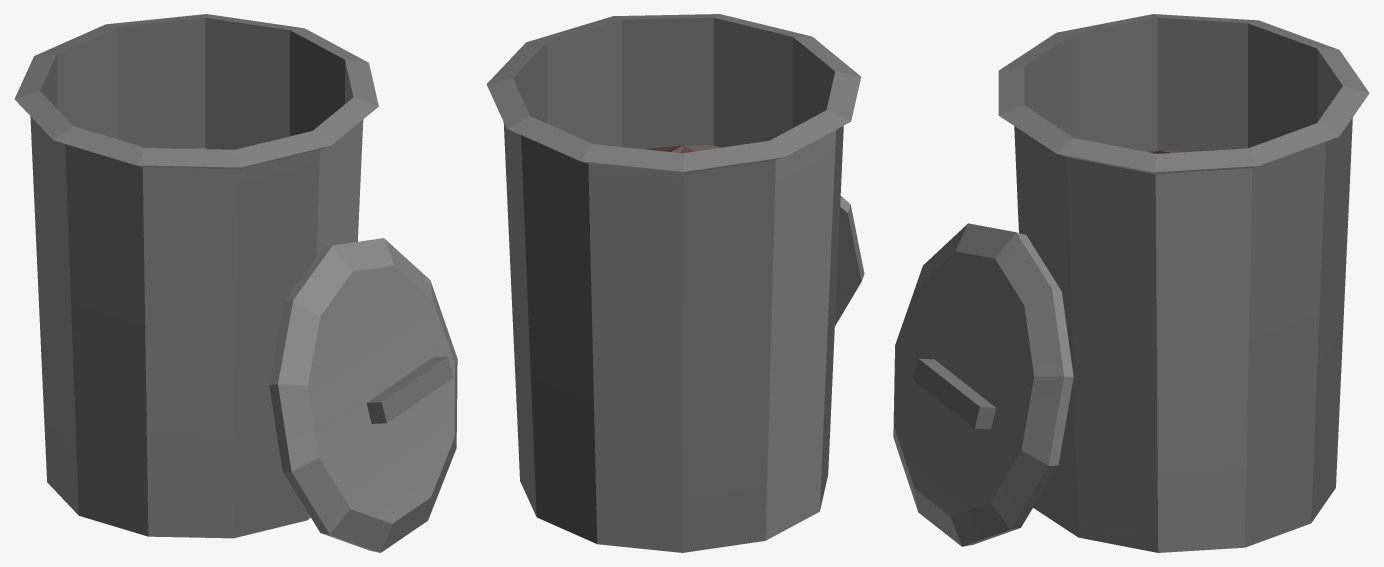
The model's file is B02_poubelle_on.fbx.
3 views of the same model, side by side, from view 1: azimuth 30°, elevation 25°; view 2: azimuth 150°, elevation 25°; view 3: azimuth 270°, elevation 25° (orthographic). The views are drawn at different scales.
Parts seen in each view (by area): view 1: B02_poubelle_on; view 2: B02_poubelle_on; view 3: B02_poubelle_on.
Boxes of the visible parts, bbox=[...] form: B02_poubelle_on: bbox=[14, 14, 457, 552]; B02_poubelle_on: bbox=[486, 14, 864, 552]; B02_poubelle_on: bbox=[893, 14, 1369, 552].
Size of the model in its own units: 137 by 145 by 156.
